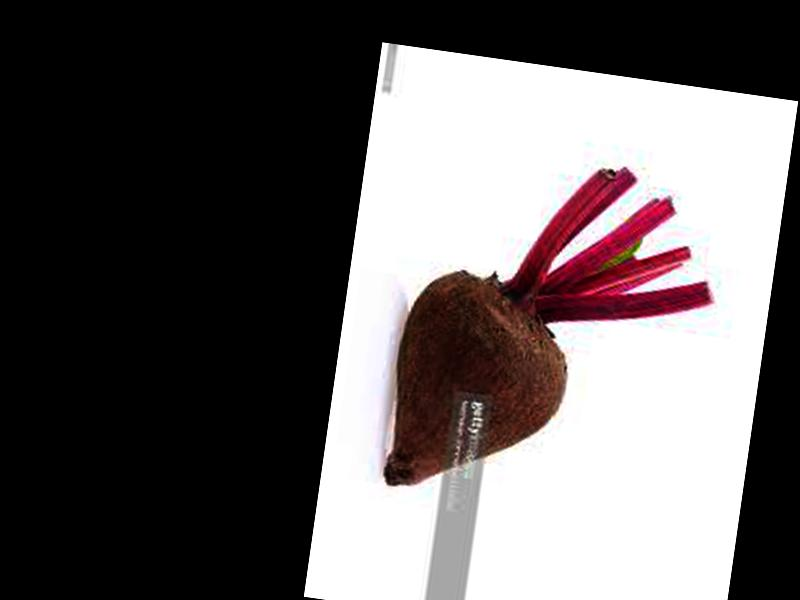Beet: (381, 140, 728, 526)
